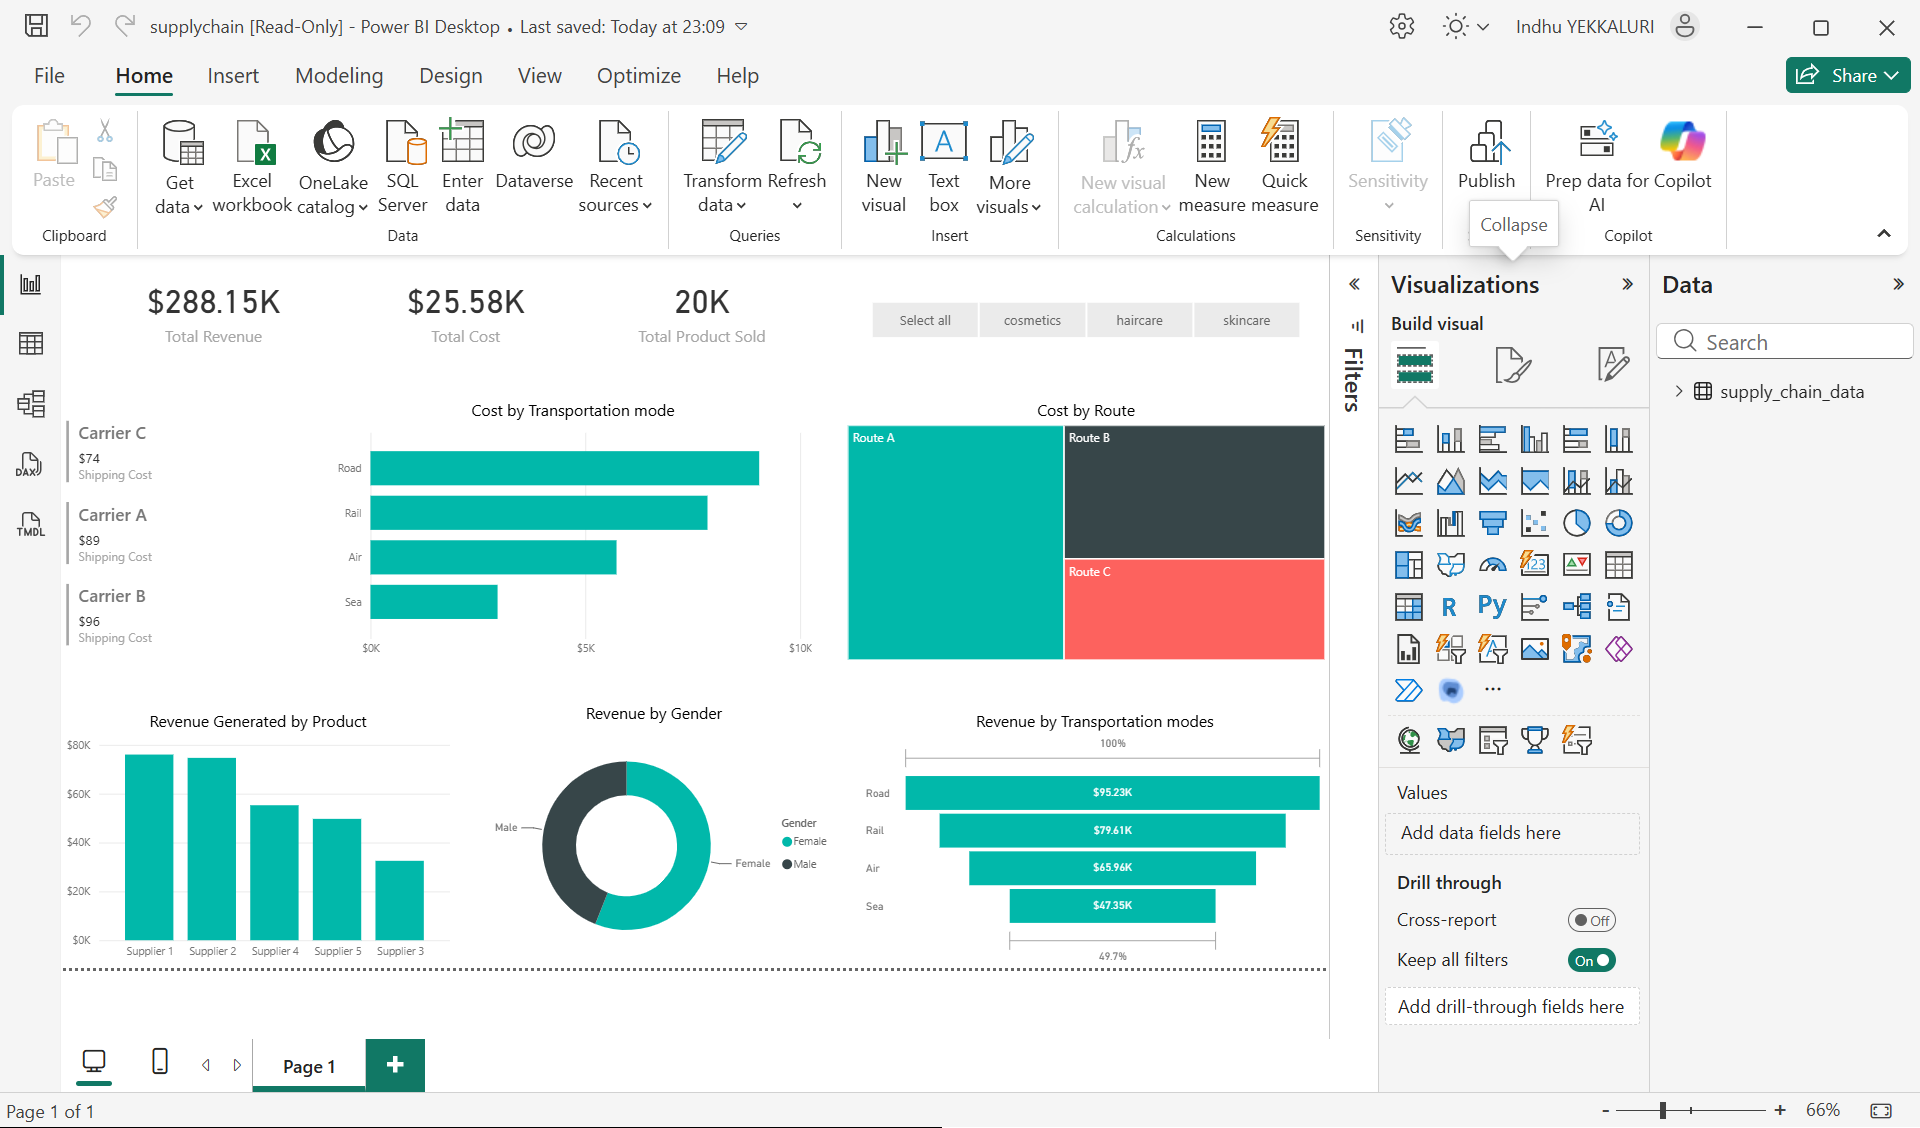

This screenshot's page, from the dashboard's own definition file:
{"tool":"powerbi","page":{"name":"Page 1","canvas":[1280,720],"ordinal":0},"visuals":[{"type":"columnChart","title":"Revenue Generated by Product","fields":{"Category":["supply_chain_data.Supplier name"],"Y":["Sum(supply_chain_data.Revenue generated)"]},"box":[0,459,398,260.6],"z":0},{"type":"funnel","title":"Revenue by Transportation modes","fields":{"Category":["supply_chain_data.Transportation modes"],"Y":["Sum(supply_chain_data.Revenue generated)"]},"box":[806.8,459,473.2,260.6],"z":1000},{"type":"card","fields":{"Values":["Sum(supply_chain_data.Revenue generated)"]},"box":[0,0,307.5,109],"z":2000},{"type":"card","fields":{"Values":["Sum(supply_chain_data.Costs)"]},"box":[286.7,0,244.2,109],"z":3000},{"type":"card","fields":{"Values":["Sum(supply_chain_data.Number of products sold)"]},"box":[516.8,0,260.6,109],"z":4000},{"type":"multiRowCard","fields":{"Values":["supply_chain_data.Shipping carriers","Sum(supply_chain_data.Shipping costs)"]},"box":[0,162.5,218.1,269.3],"z":5000},{"type":"donutChart","title":"Revenue by Gender","fields":{"Category":["supply_chain_data.Customer demographics"],"Y":["Sum(supply_chain_data.Revenue generated)"]},"box":[408.9,451.4,379.4,268.2],"z":6000},{"type":"slicer","fields":{"Values":["supply_chain_data.Product type"]},"box":[793.7,41.4,480.8,49.1],"z":7000},{"type":"clusteredBarChart","title":"Cost by Transportation mode","fields":{"Category":["supply_chain_data.Transportation modes"],"Y":["Sum(supply_chain_data.Costs)"]},"box":[270.4,145,491.7,268.2],"z":8000},{"type":"treemap","title":"Cost by Route","fields":{"Group":["supply_chain_data.Routes"],"Values":["Sum(supply_chain_data.Costs)"]},"box":[788.3,145,491.7,268.2],"z":9000}]}

Visuals, with their boxes on the page's 1280x720 design canvas (x1, y1, x2, y2). These are canvas units, not pixel positions in the 1920x1128 screenshot, which may show the page scaled, cropped or inside an application window:
"Revenue Generated by Product" columnChart: Rect(0, 459, 398, 720)
"Revenue by Transportation modes" funnel: Rect(807, 459, 1280, 720)
card - Sum(supply_chain_data.Revenue generated): Rect(0, 0, 308, 109)
card - Sum(supply_chain_data.Costs): Rect(287, 0, 531, 109)
card - Sum(supply_chain_data.Number of products sold): Rect(517, 0, 777, 109)
multiRowCard - supply_chain_data.Shipping carriers x Sum(supply_chain_data.Shipping costs): Rect(0, 162, 218, 432)
"Revenue by Gender" donutChart: Rect(409, 451, 788, 720)
slicer - supply_chain_data.Product type: Rect(794, 41, 1274, 90)
"Cost by Transportation mode" clusteredBarChart: Rect(270, 145, 762, 413)
"Cost by Route" treemap: Rect(788, 145, 1280, 413)
